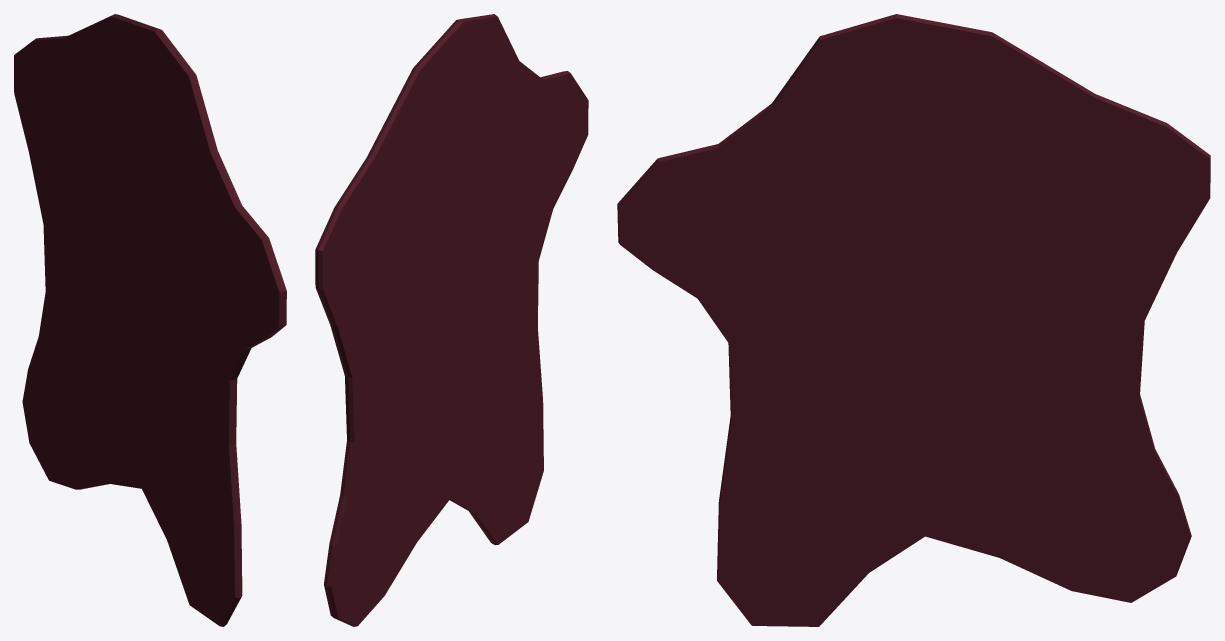
The model's file is @Tag.Fluid.1.obj.
The picture shows the model from 3 angles, left to right: view 1: azimuth 30°, elevation 25°; view 2: azimuth 150°, elevation 25°; view 3: azimuth 270°, elevation 25°; orthographic projection. The views are drawn at different scales.
Parts seen in each view (by area): view 1: Fluid; view 2: Fluid; view 3: Fluid.
Part boxes in pixels (x1=…): Fluid: x1=14, y1=14, x2=286, y2=626; Fluid: x1=315, y1=14, x2=588, y2=626; Fluid: x1=617, y1=14, x2=1210, y2=626.
Bounding box in the file's own units: 2.7 × 192 × 168.
1 material, 1 textured.
